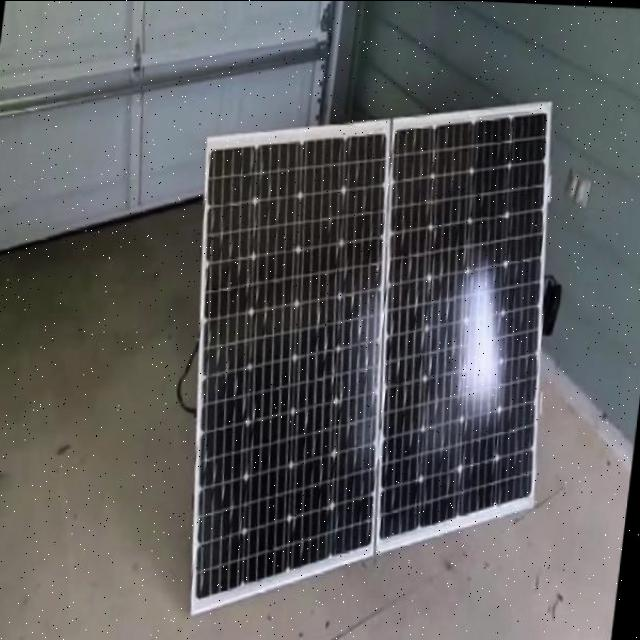Normal Solar Panel: (161, 81, 585, 628)
